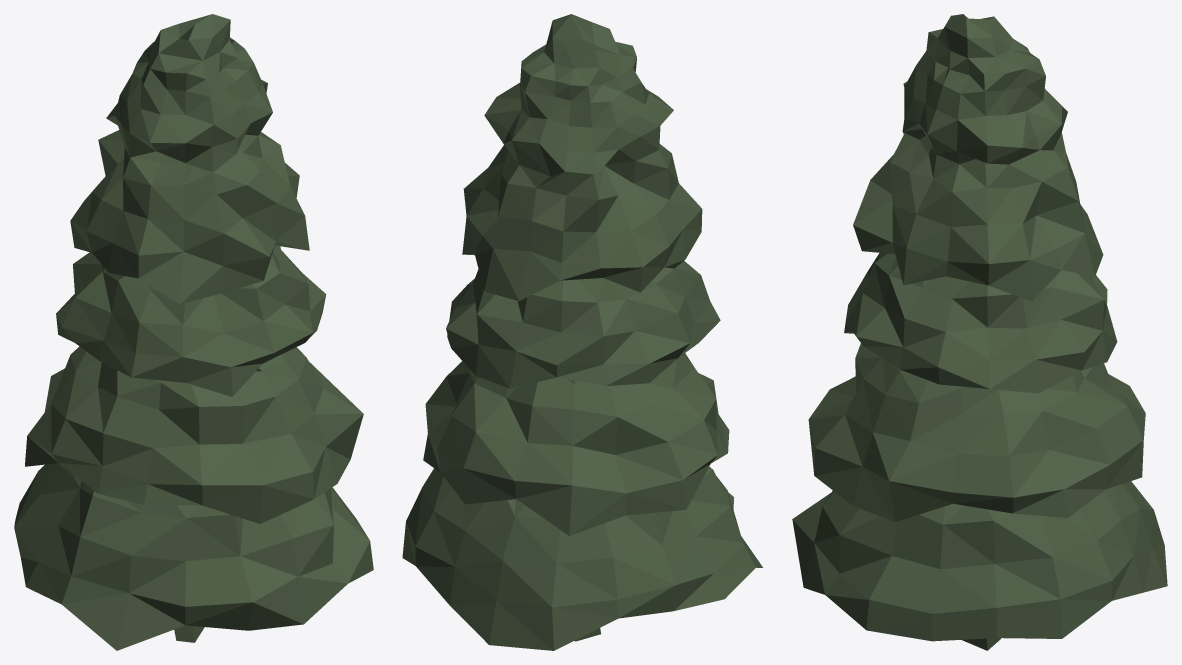
The model's file is tree_1.glb.
The picture shows the model from 3 angles, left to right: view 1: azimuth 30°, elevation 25°; view 2: azimuth 150°, elevation 25°; view 3: azimuth 270°, elevation 25°; orthographic projection. The views are drawn at different scales.
Parts seen in each view (by area): view 1: _1_tree; view 2: _1_tree; view 3: _1_tree.
Part boxes in pixels (bbox=[...]): _1_tree: bbox=[14, 14, 373, 650]; _1_tree: bbox=[402, 14, 762, 650]; _1_tree: bbox=[792, 14, 1167, 650].
Bounding box in the file's own units: 0.7483 × 1.45 × 0.7799.
